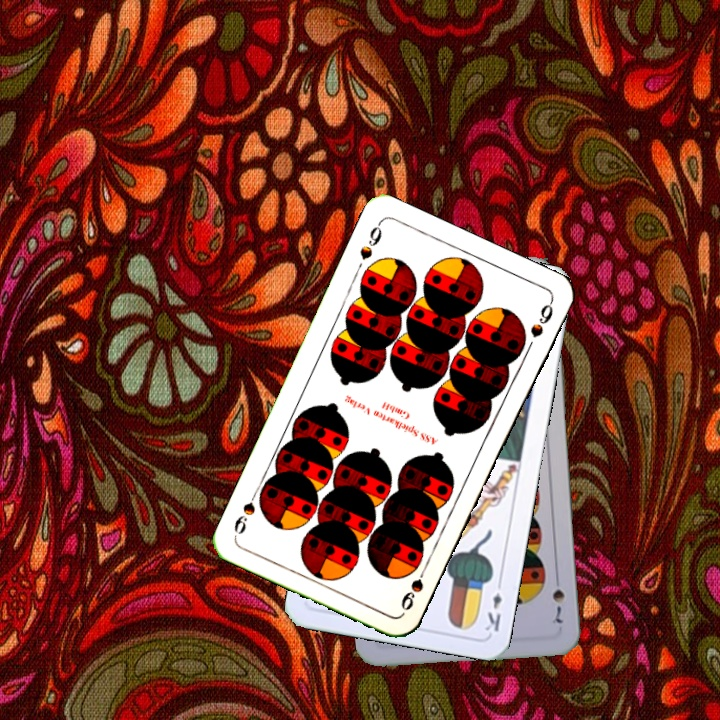EK: (481, 576, 505, 634)
S7: (548, 570, 567, 626)
S9: (397, 559, 431, 614), (355, 218, 385, 263)
